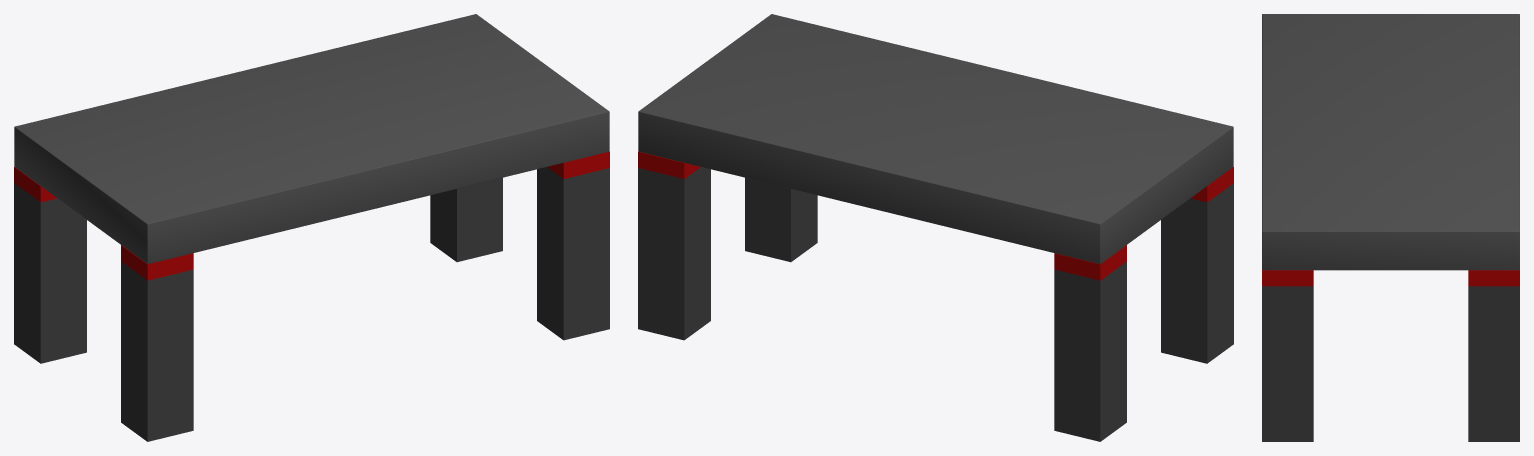
The model's file is tavolino.obj.
The picture shows the model from 3 angles, left to right: view 1: azimuth 30°, elevation 25°; view 2: azimuth 150°, elevation 25°; view 3: azimuth 270°, elevation 25°; orthographic projection. The views are drawn at different scales.
Visible parts, largest first — view 1: ChamferBox06_3, Box49_9, Box48_8, Box42_1, Box45_5, Box46_6, Box47_7, Box43_2; view 2: ChamferBox06_3, Box42_1, Box45_5, Box49_9, Box48_8, Box43_2, Box44_4, Box46_6; view 3: ChamferBox06_3, Box45_5, Box48_8, Box44_4, Box47_7.
Part boxes in pixels (x1=…): ChamferBox06_3: x1=14, y1=14, x2=609, y2=264; Box49_9: x1=121, y1=261, x2=193, y2=441; Box48_8: x1=537, y1=167, x2=609, y2=340; Box42_1: x1=14, y1=183, x2=86, y2=363; Box45_5: x1=430, y1=177, x2=502, y2=262; Box46_6: x1=121, y1=245, x2=193, y2=280; Box47_7: x1=547, y1=151, x2=609, y2=178; Box43_2: x1=14, y1=167, x2=57, y2=202; ChamferBox06_3: x1=638, y1=14, x2=1233, y2=264; Box42_1: x1=1054, y1=261, x2=1126, y2=441; Box45_5: x1=638, y1=167, x2=710, y2=340; Box49_9: x1=1161, y1=183, x2=1233, y2=363; Box48_8: x1=745, y1=177, x2=817, y2=262; Box43_2: x1=1054, y1=245, x2=1126, y2=280; Box44_4: x1=638, y1=151, x2=700, y2=178; Box46_6: x1=1190, y1=167, x2=1233, y2=202; ChamferBox06_3: x1=1262, y1=14, x2=1519, y2=270; Box45_5: x1=1468, y1=286, x2=1519, y2=441; Box48_8: x1=1262, y1=286, x2=1313, y2=441; Box44_4: x1=1468, y1=270, x2=1519, y2=286; Box47_7: x1=1262, y1=270, x2=1313, y2=286.
Bounding box in the file's own units: 60 × 27 × 30.
